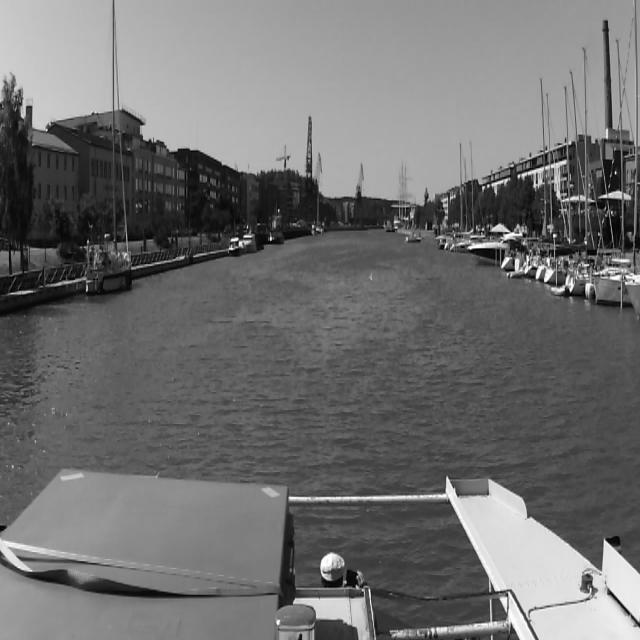ship: (84, 0, 132, 299), (594, 61, 630, 307), (567, 51, 585, 297), (543, 89, 561, 294), (470, 237, 504, 260), (311, 180, 322, 236), (244, 234, 258, 253), (228, 236, 242, 254), (405, 233, 423, 243)
